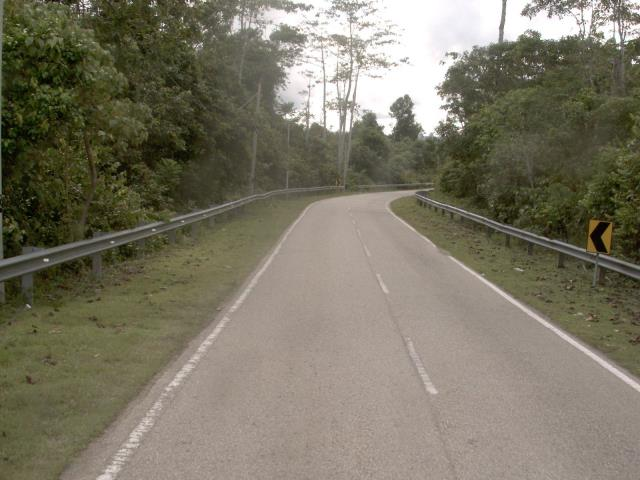traffic_sign: (583, 214, 620, 262)
